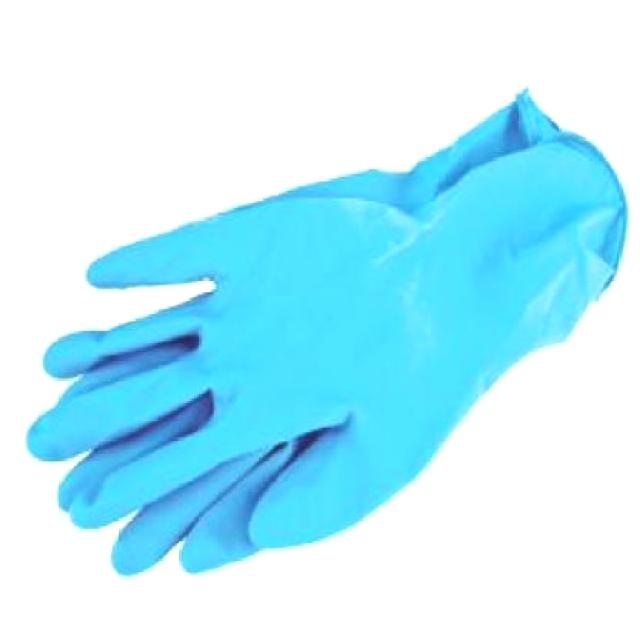glove: (25, 72, 628, 580)
